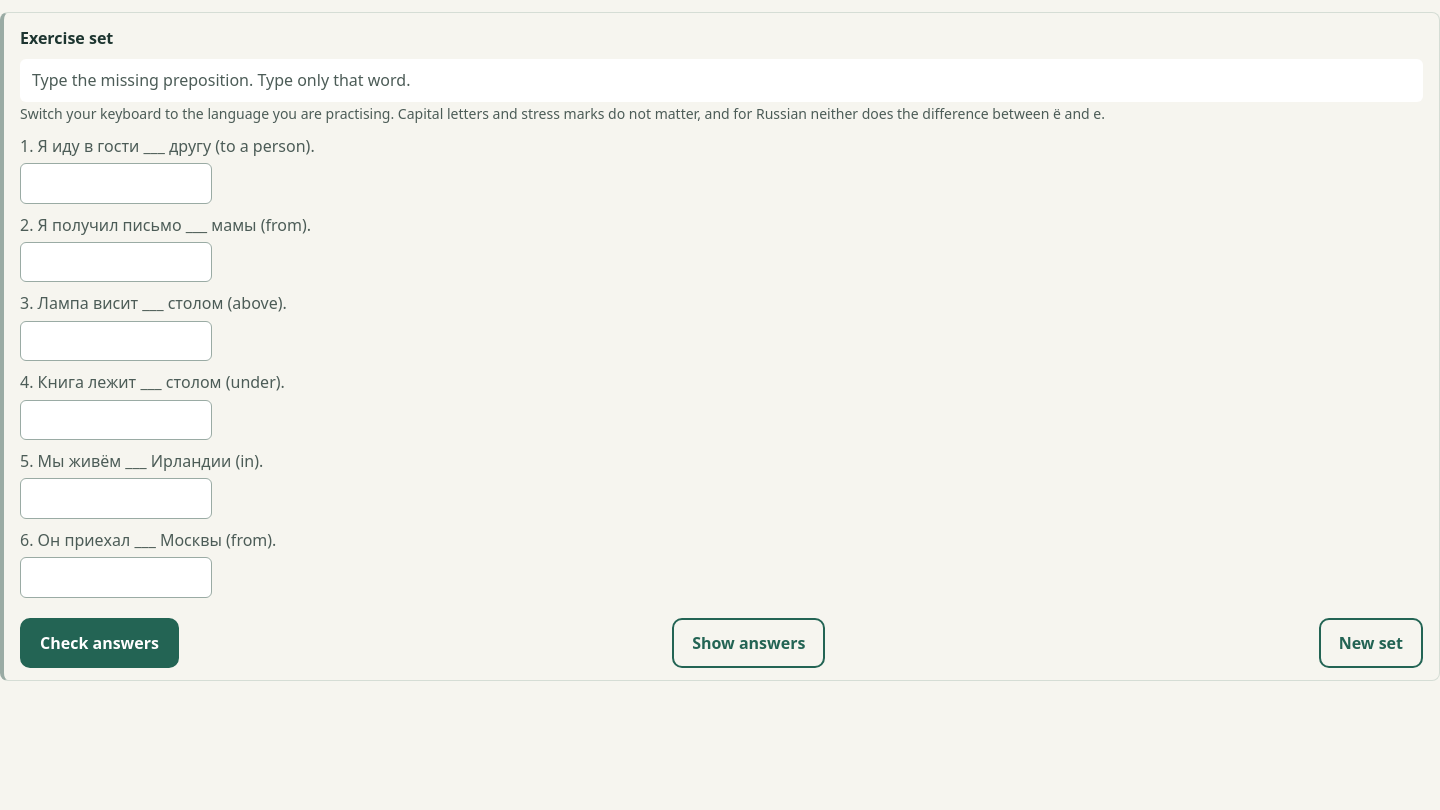
Scenario: ExercisePanel › clears the answers when a new set is requested
In the field labelled "1. Я иду в гости ___ другу (to a person).": (116, 184) [20, 163, 212, 204], type "x"
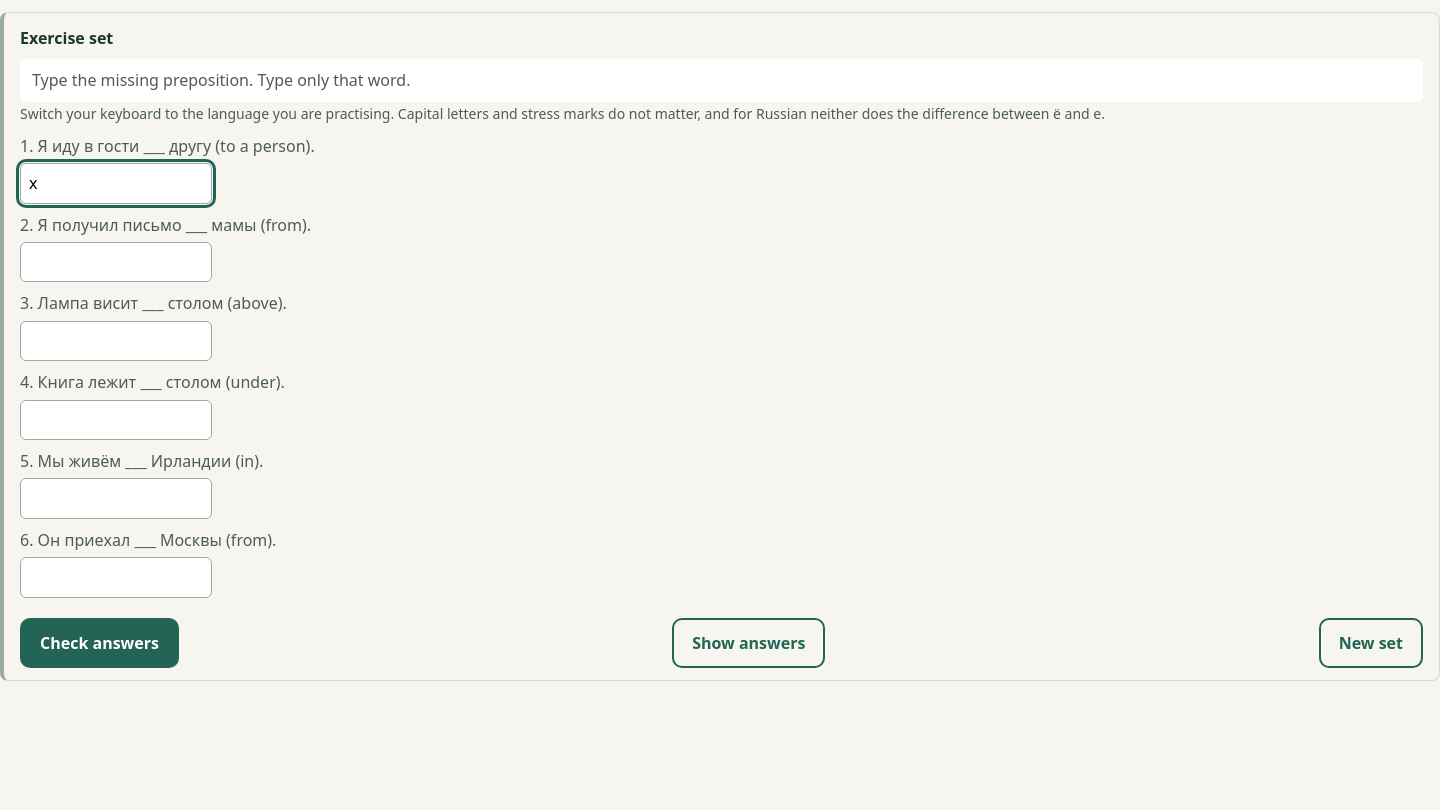
Click the button "Check answers": (100, 643) [20, 618, 179, 668]
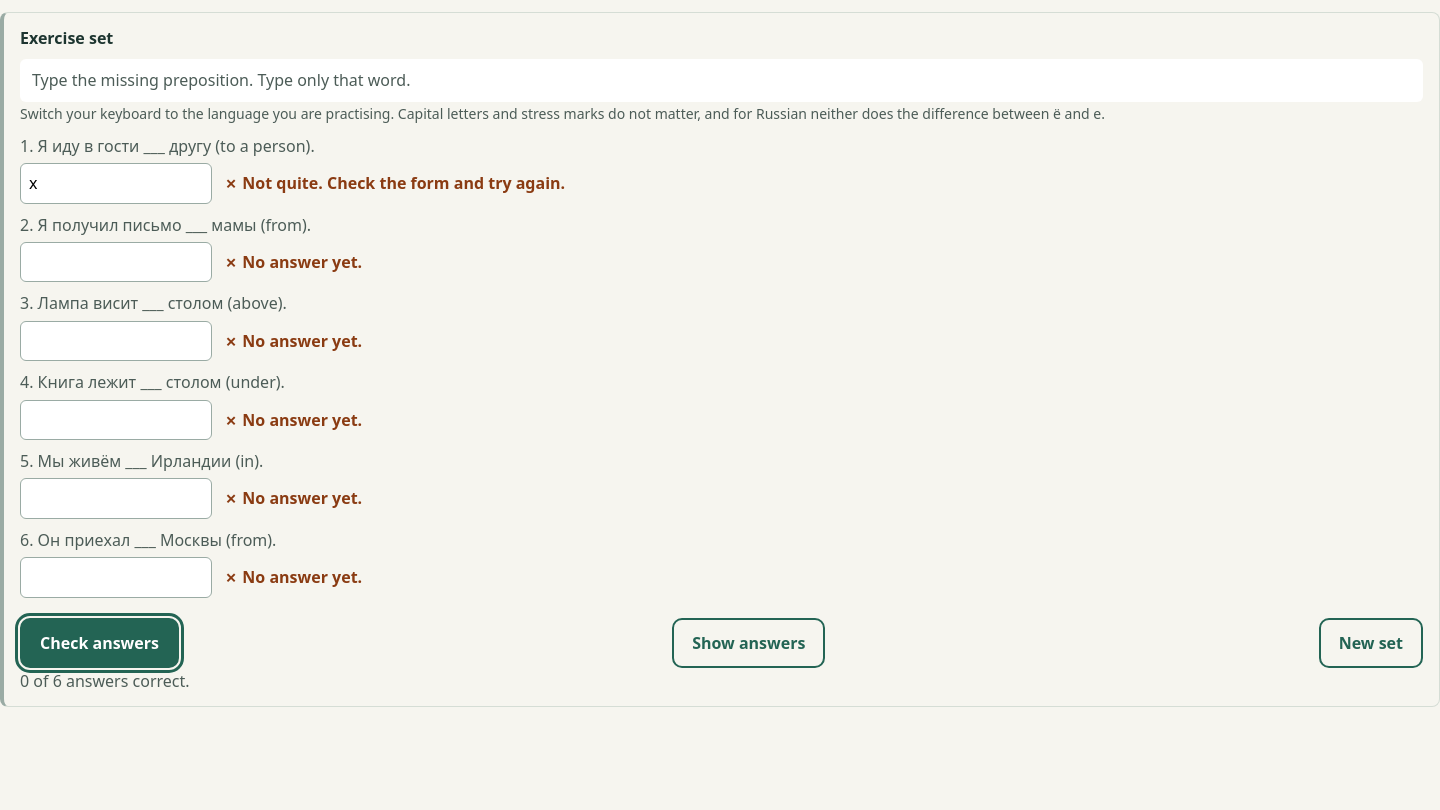
Click the button "New set": (1371, 643) [1319, 618, 1423, 668]
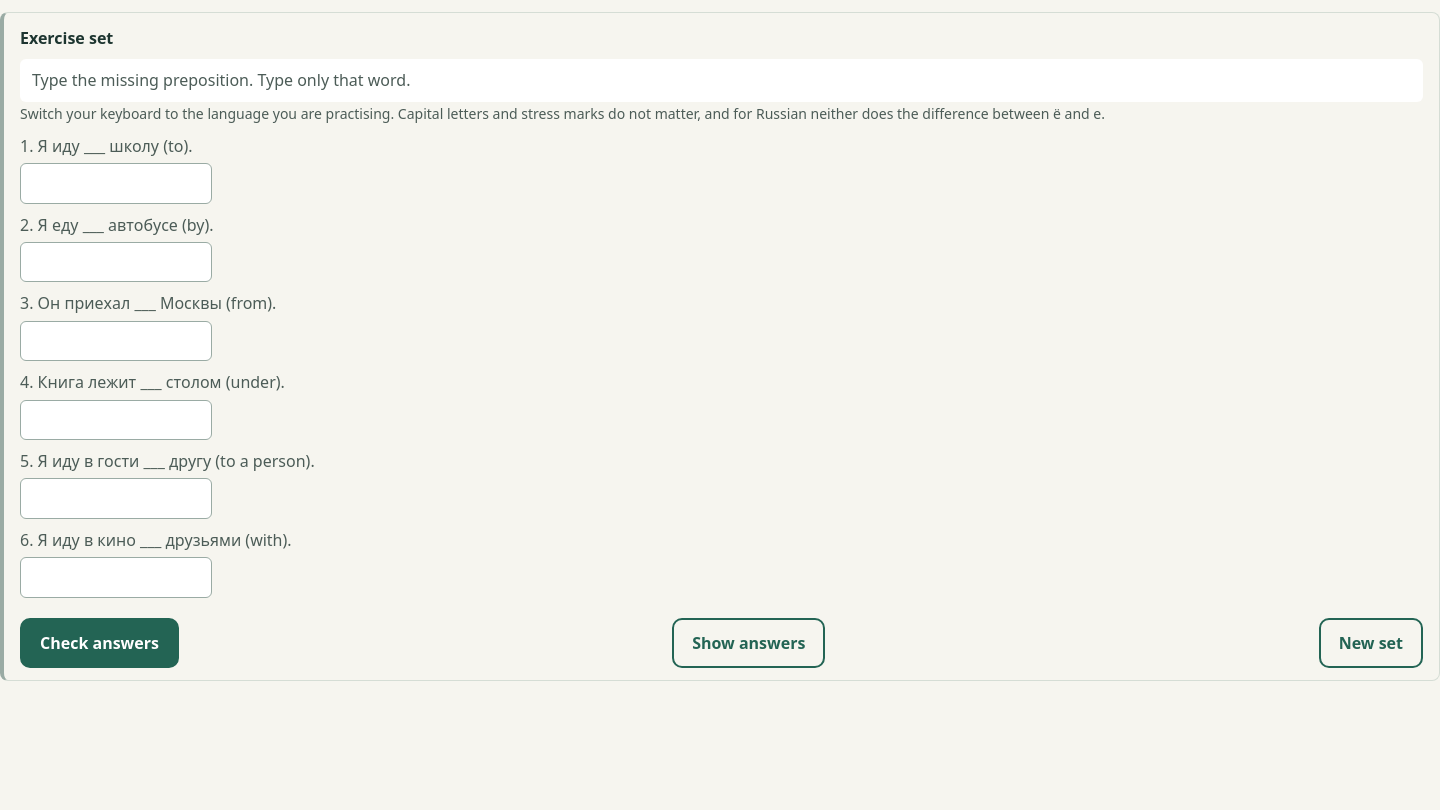
Now the message "0 of 6 answers correct." is gone
Now the field labelled "1. Я иду ___ школу (to)." is empty, box [20, 163, 212, 204]
